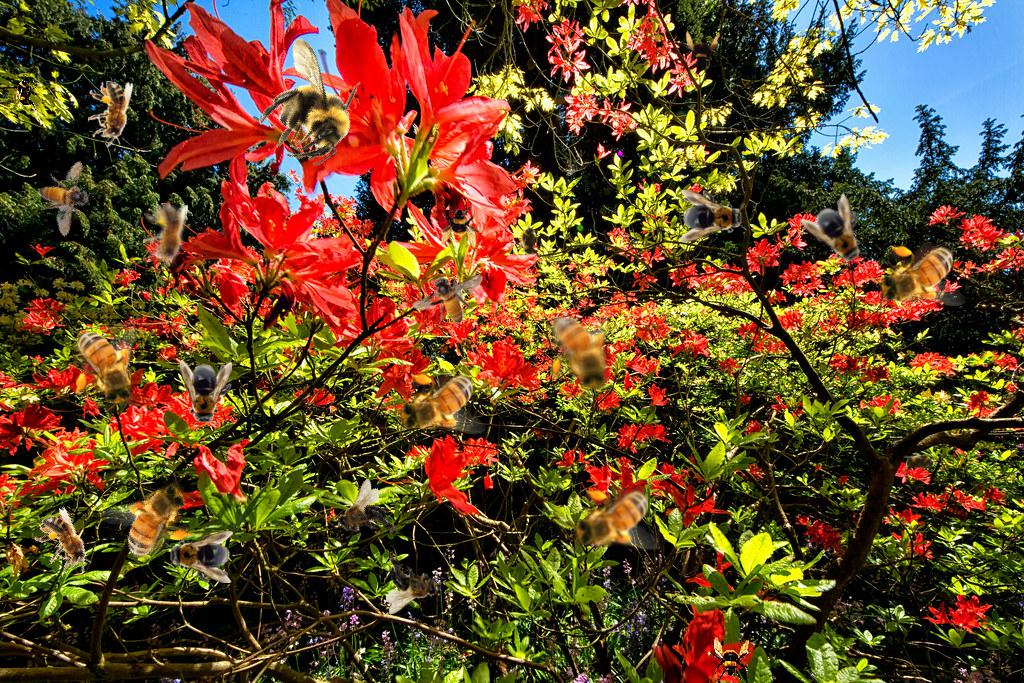Bee: (231, 23, 386, 180), (96, 469, 210, 572), (25, 151, 107, 238), (799, 191, 881, 277), (393, 370, 486, 438), (547, 303, 615, 396), (568, 486, 661, 554), (72, 319, 140, 412), (873, 242, 966, 310), (26, 504, 104, 585), (325, 476, 402, 558), (412, 274, 483, 324), (180, 360, 232, 428), (679, 190, 747, 242), (165, 531, 233, 583), (386, 552, 439, 614), (88, 81, 133, 147), (143, 203, 188, 269), (678, 29, 722, 73), (707, 637, 751, 681), (439, 204, 483, 248), (900, 452, 940, 474), (297, 400, 337, 422), (519, 221, 541, 261), (15, 72, 37, 112)
